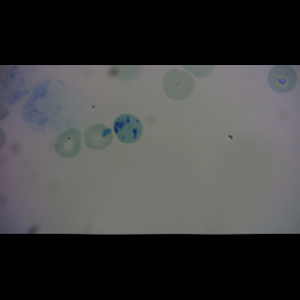aggregate reticulocyte: (113, 112, 144, 145)
erythrocyte: (163, 68, 196, 101), (266, 65, 299, 95), (54, 127, 83, 158), (83, 123, 114, 152)
